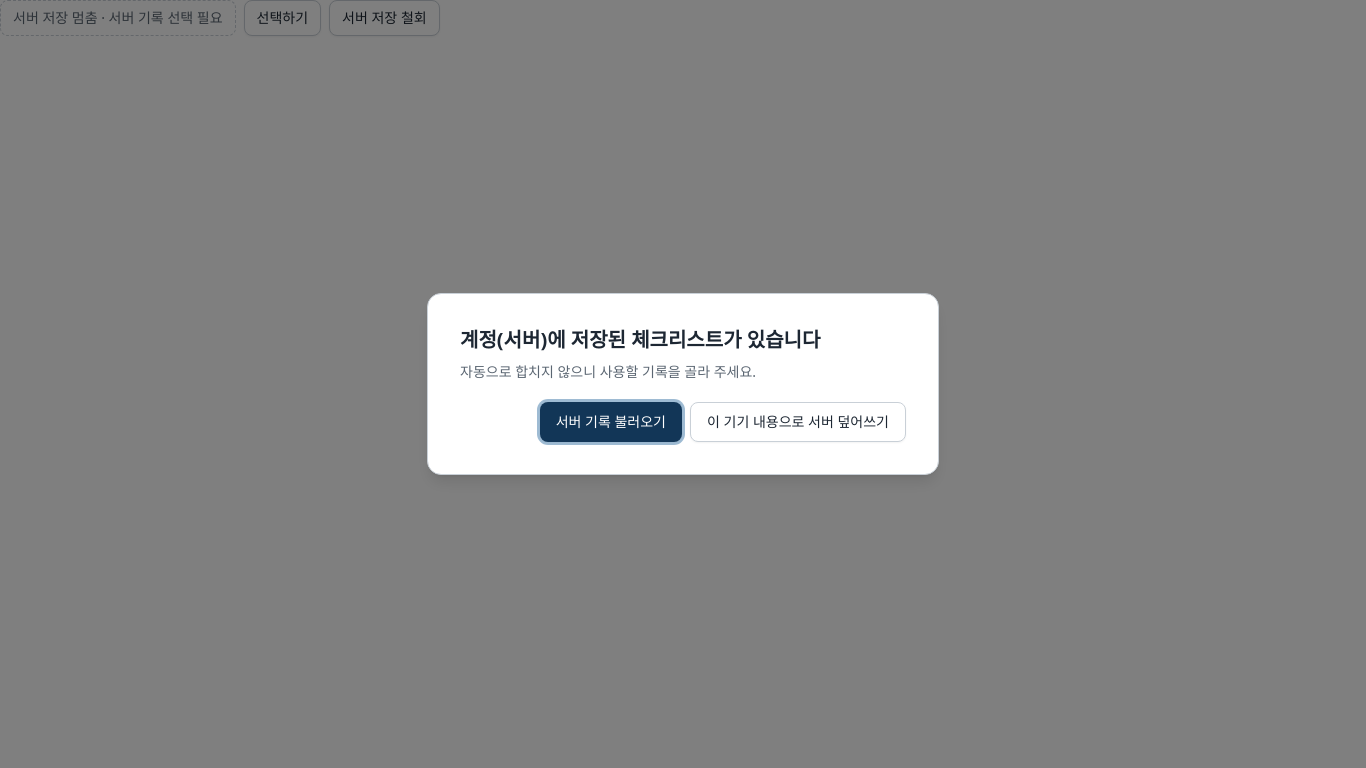
Test: ServerSaveBand › 서버 기록이 있으면 자동으로 합치지 않고 고르게 하며, [서버 기록 불러오기]로 화면을 바꾼다
Expected: the dialog "계정(서버)에 저장된 체크리스트가 있습니다" is shown, [427, 293, 939, 475]
Expected: the text "자동으로 합치지 않으니 사용할 기록을 골라 주세요." is shown, [460, 362, 756, 381]
Click the button "서버 기록 불러오기": click(611, 422) [540, 402, 682, 442]
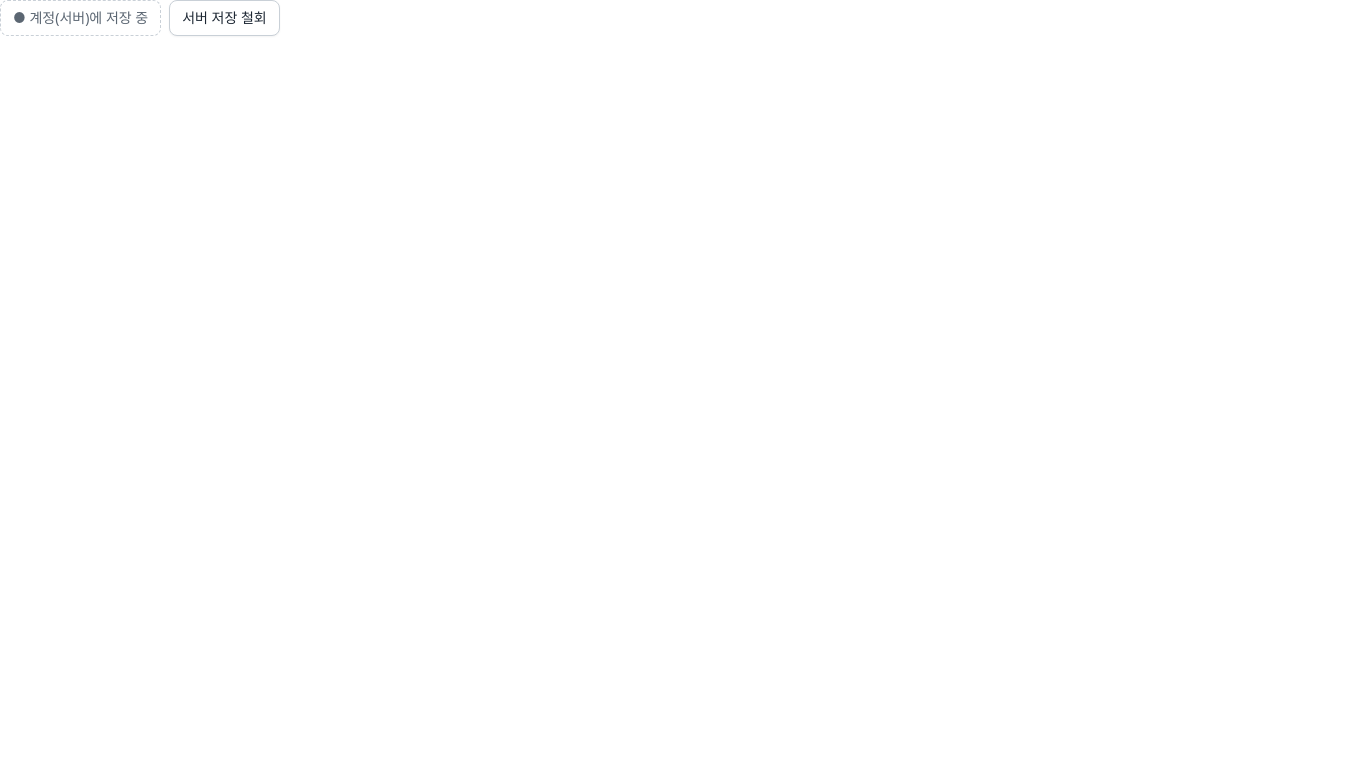
Expected: the button "서버 기록 불러오기" is gone
Expected: the dialog is gone
